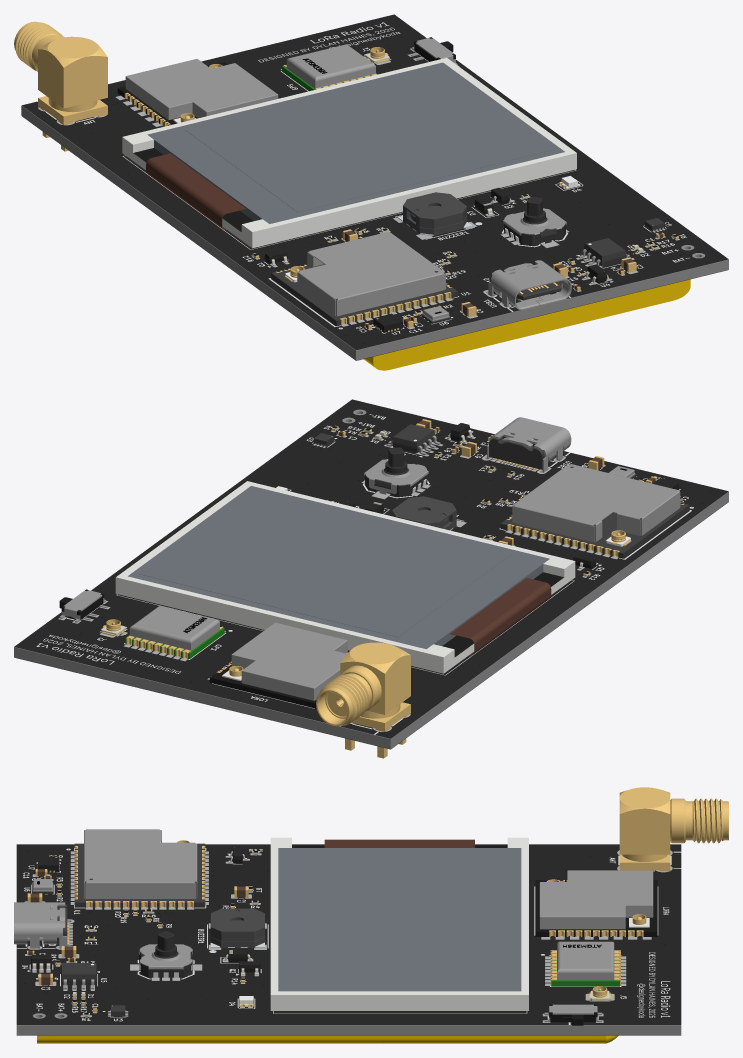
3 views of the same model, one above another, from view 1: azimuth 30°, elevation 25°; view 2: azimuth 150°, elevation 25°; view 3: azimuth 270°, elevation 25° (orthographic).
Visible parts, largest first — view 1: =>[0:1:1:28], =>[0:1:1:27], Glass, U1, Screen support, LORA, ANT, COMPOUND008, =>[0:1:1:26], USB1, Ribon cable, GPS (+5 smaller); view 2: =>[0:1:1:28], =>[0:1:1:27], Glass, U1, Screen support, LORA, ANT, GPS, USB1, Ribon cable, =>[0:1:1:26], SW1 (+4 smaller); view 3: =>[0:1:1:28], =>[0:1:1:27], Glass, U1, Screen support, LORA, ANT, COMPOUND008, =>[0:1:1:26], GPS, =>[0:1:1:25], USB1 (+5 smaller).
Boxes of the visible parts, x1,y1,x2,y2 form: =>[0:1:1:28]: (21, 15, 728, 360); =>[0:1:1:27]: (22, 14, 728, 360); Glass: (147, 62, 564, 223); U1: (271, 232, 457, 326); Screen support: (122, 57, 576, 248); LORA: (117, 59, 278, 126); ANT: (14, 21, 107, 151); COMPOUND008: (363, 279, 690, 370); =>[0:1:1:26]: (37, 22, 689, 334); USB1: (488, 260, 571, 310); Ribon cable: (146, 153, 245, 230); GPS: (282, 44, 377, 91); =>[0:1:1:28]: (14, 400, 728, 749); =>[0:1:1:27]: (14, 399, 728, 749); Glass: (128, 486, 549, 649); U1: (500, 464, 689, 558); Screen support: (115, 481, 575, 673); LORA: (209, 622, 349, 708); ANT: (316, 642, 410, 758); GPS: (125, 606, 224, 659); USB1: (487, 417, 571, 472); Ribon cable: (450, 577, 551, 655); =>[0:1:1:26]: (36, 414, 693, 734); SW1: (364, 447, 428, 496); =>[0:1:1:28]: (16, 845, 681, 1035); =>[0:1:1:27]: (16, 844, 681, 1035); Glass: (278, 848, 521, 991); U1: (74, 829, 205, 907); Screen support: (270, 837, 528, 1010); LORA: (535, 870, 657, 936); ANT: (619, 787, 728, 871); COMPOUND008: (37, 1035, 618, 1043); =>[0:1:1:26]: (16, 848, 681, 1024); GPS: (550, 941, 620, 986); =>[0:1:1:25]: (24, 850, 672, 1022); USB1: (14, 902, 69, 948).
Size of the model in its own units: 0.0597 by 0.0153 by 0.0987.
